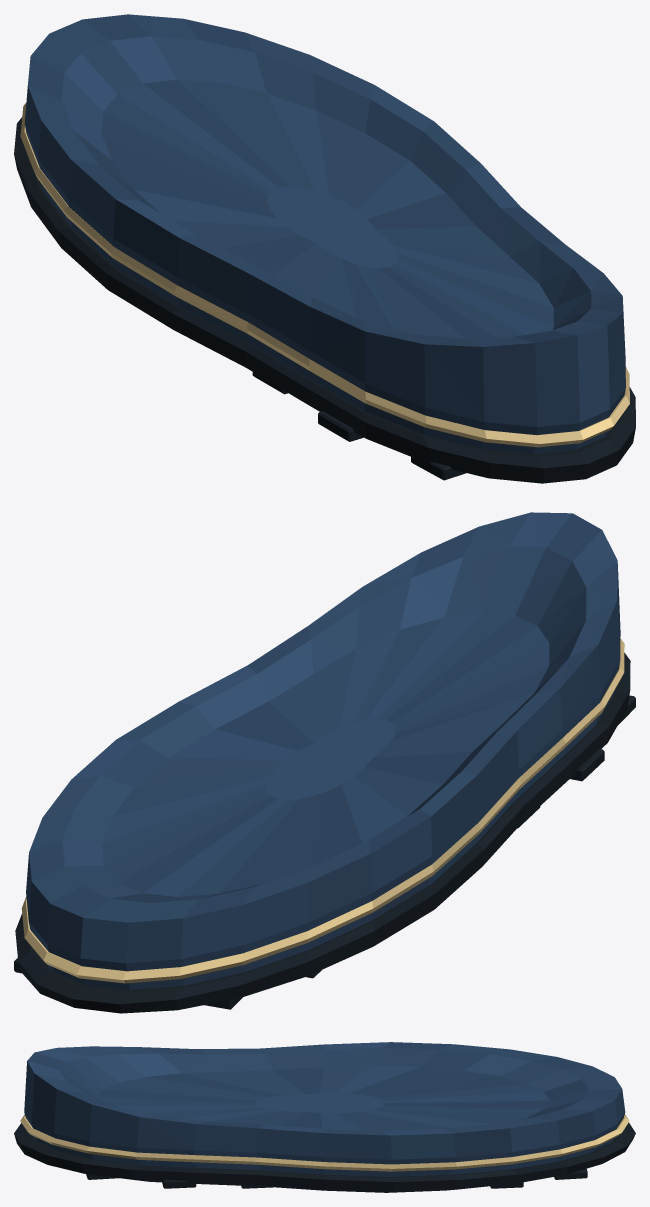
The model's file is ES_02_Trail_Tread_Footbed.fbx.
The picture shows the model from 3 angles, top to bottom: view 1: azimuth 30°, elevation 25°; view 2: azimuth 150°, elevation 25°; view 3: azimuth 270°, elevation 25°; orthographic projection. The views are drawn at different scales.
Visible parts, largest first — view 1: ES_02_Trail_Tread_Footbed; view 2: ES_02_Trail_Tread_Footbed; view 3: ES_02_Trail_Tread_Footbed.
Boxes of the visible parts, <box> form: ES_02_Trail_Tread_Footbed: <box>14,14,635,483</box>; ES_02_Trail_Tread_Footbed: <box>14,512,635,1013</box>; ES_02_Trail_Tread_Footbed: <box>14,1042,635,1192</box>.
Bounding box in the file's own units: 0.9748 × 0.4125 × 2.62.
3 materials, 3 textured.
